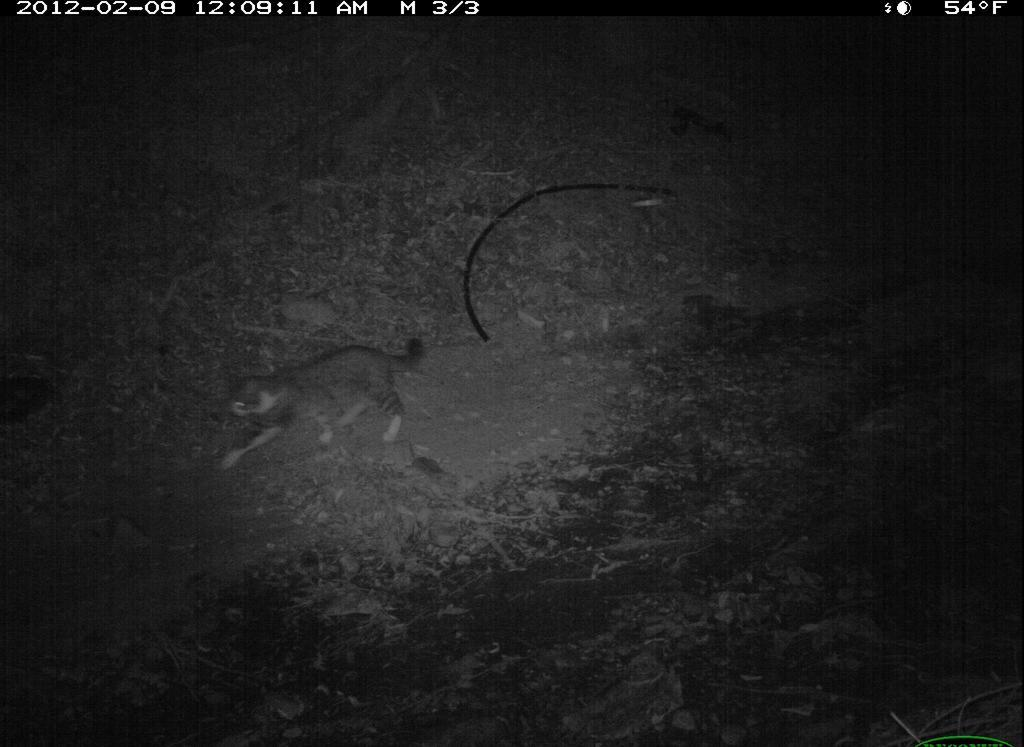cat: (205, 327, 445, 476)
